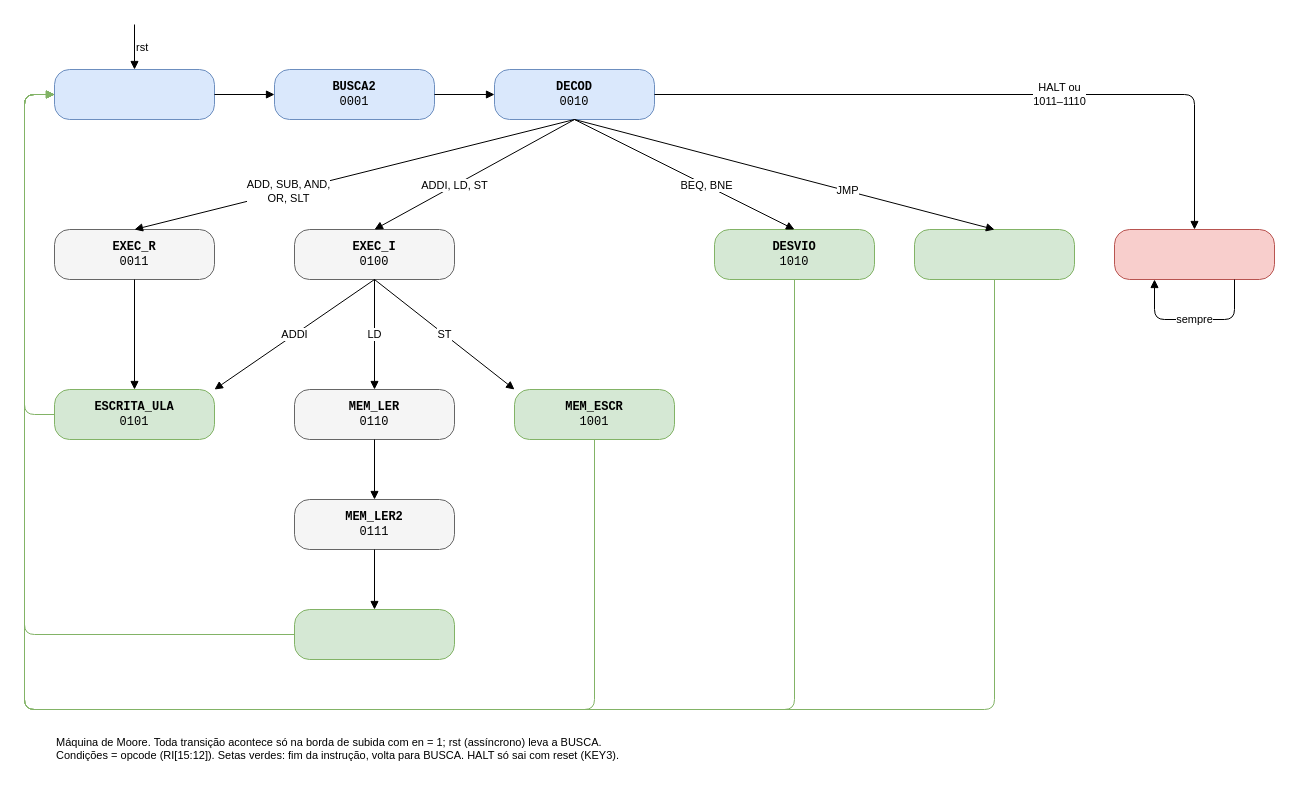
This 1292x787 diagram has some shape labels left out. The shapes that lost their labels are listed below. From the top down, each one's box as (x1, y1, x2, y2) in pixels, then its label:
(54, 68, 214, 120): BUSCA 0000
(914, 228, 1074, 280): SALTO 1011
(1114, 228, 1274, 280): HALT 1100
(294, 608, 454, 660): ESCRITA_MEM 1000
